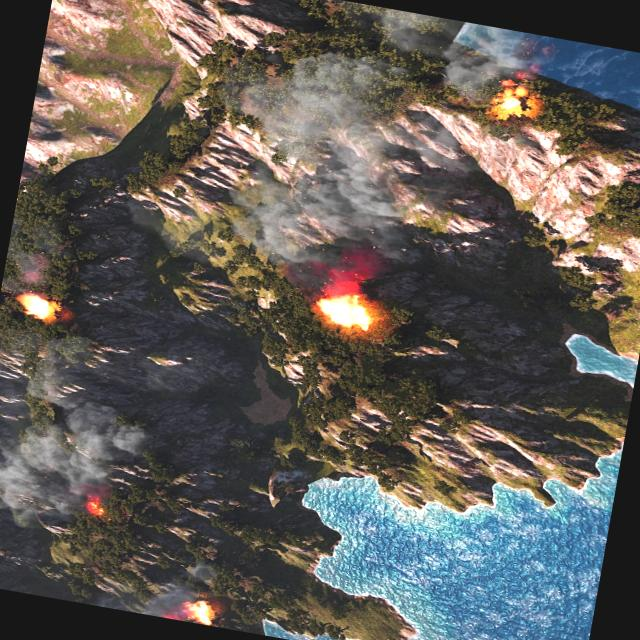fire: (314, 288, 376, 332), (491, 76, 538, 116), (13, 290, 56, 320), (182, 597, 215, 626), (81, 492, 112, 519)
smoke: (209, 0, 557, 326), (0, 380, 158, 544), (100, 566, 225, 627), (13, 250, 53, 292)
